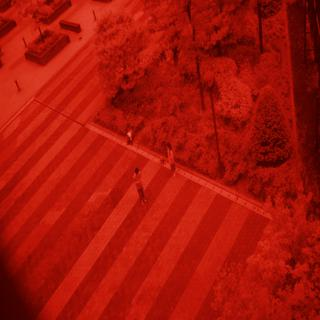person: (130, 160, 149, 208), (161, 140, 181, 180)
